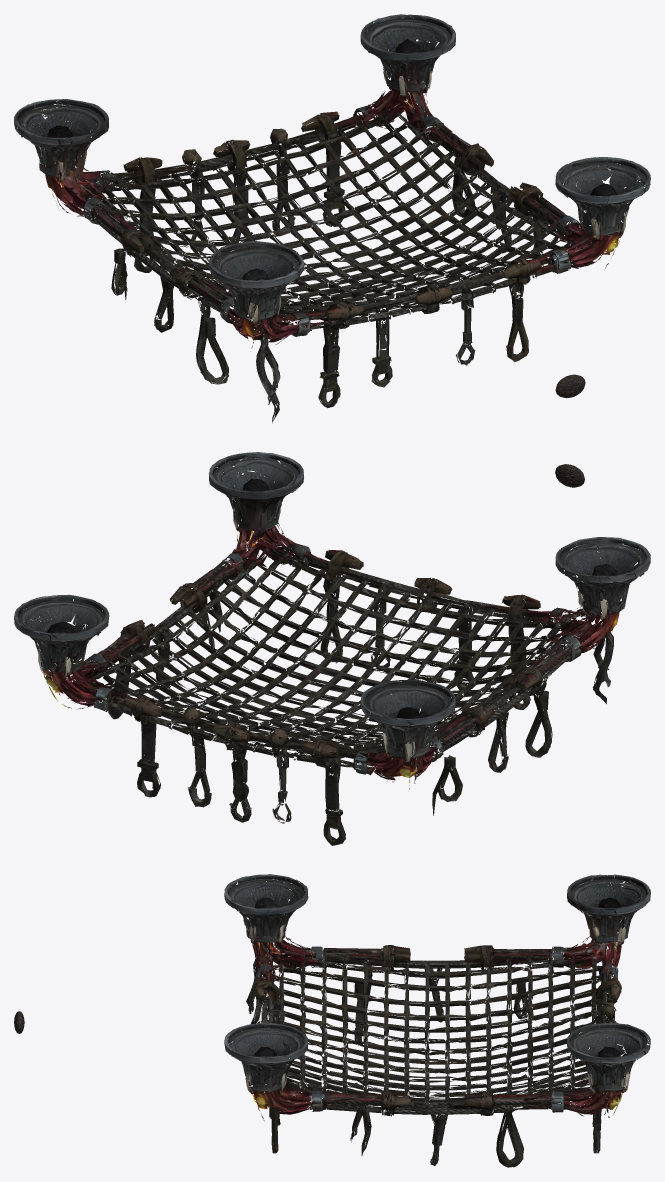
File: evac_crew_belongings_mesh.glb
3 views of the same model, one above another, from view 1: azimuth 30°, elevation 25°; view 2: azimuth 150°, elevation 25°; view 3: azimuth 270°, elevation 25° (orthographic). The views are drawn at different scales.
Visible parts, largest first — view 1: node_0; view 2: node_0; view 3: node_0.
Boxes of the visible parts, x1,y1,x2,y2 form: node_0: (14, 14, 650, 422); node_0: (14, 452, 650, 845); node_0: (224, 874, 650, 1167).
Bounding box in the file's own units: 0.8742 × 0.3332 × 1.28.
1 material, 1 textured.
